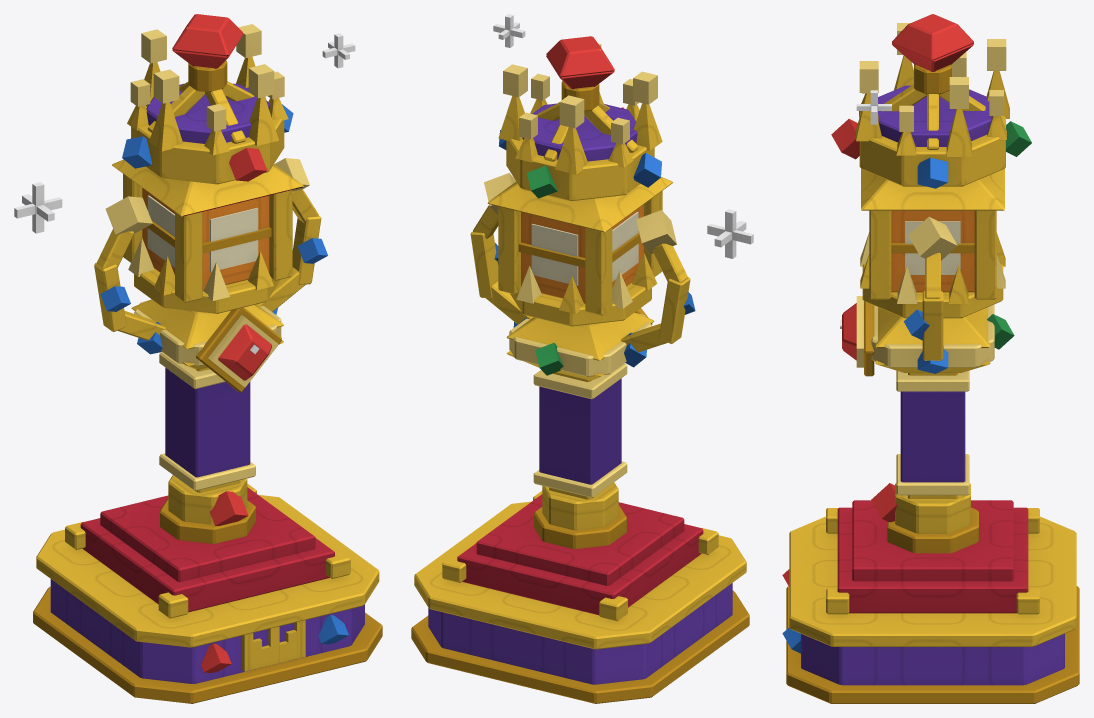
Rendered from RatScepter.fbx.
3 renders of one model, left to right at view 1: azimuth 30°, elevation 25°; view 2: azimuth 150°, elevation 25°; view 3: azimuth 270°, elevation 25°, orthographic. The views are drawn at different scales.
Parts seen in each view (by area): view 1: Art_RatScepter; view 2: Art_RatScepter; view 3: Art_RatScepter.
Boxes of the visible parts, bbox=[...] form: Art_RatScepter: bbox=[14, 14, 382, 703]; Art_RatScepter: bbox=[411, 14, 753, 703]; Art_RatScepter: bbox=[782, 14, 1079, 703].
Size of the model in its own units: 2.48 by 4.66 by 2.03.
